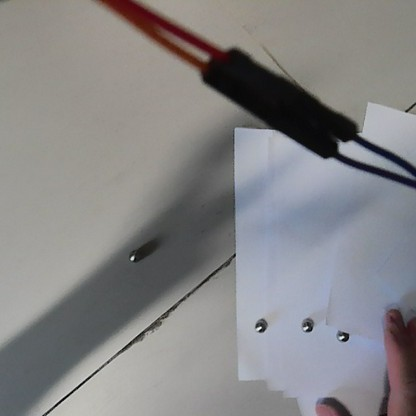ironball: (333, 324, 351, 343), (252, 314, 269, 334), (298, 315, 316, 333), (125, 246, 143, 262)
